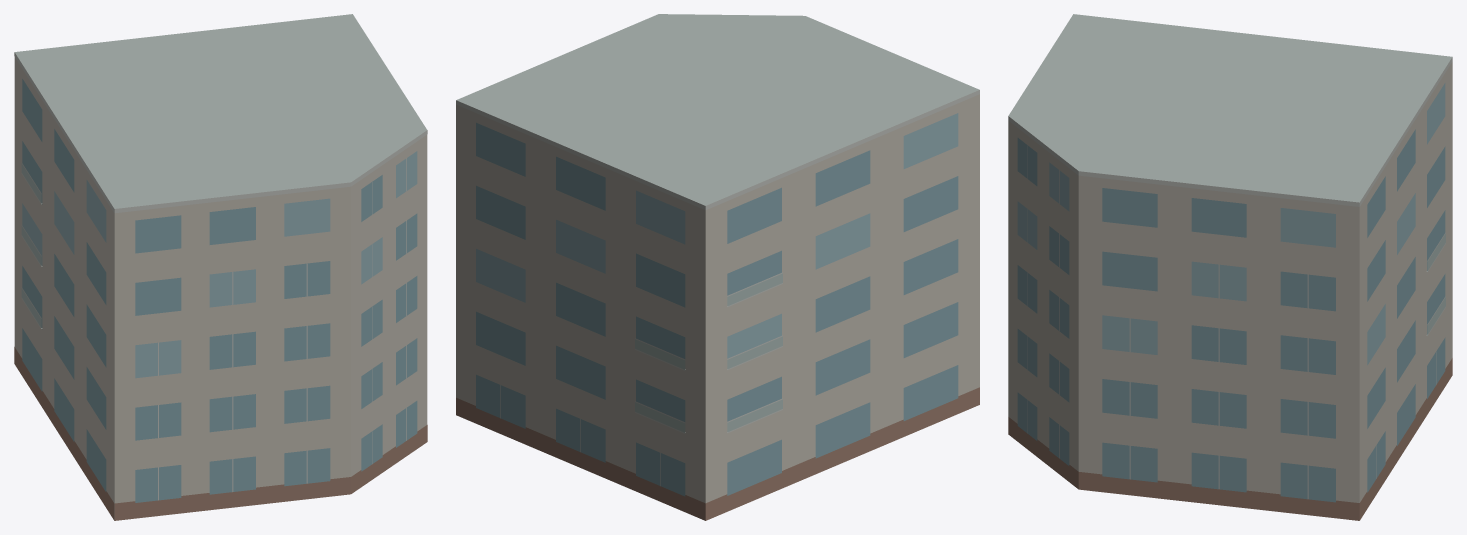
Rendered from survey-upis-32912090.glb.
The picture shows the model from 3 angles, left to right: view 1: azimuth 30°, elevation 25°; view 2: azimuth 150°, elevation 25°; view 3: azimuth 270°, elevation 25°; orthographic projection. The views are drawn at different scales.
Visible parts, largest first — view 1: survey-upis-32912090.tmp; view 2: survey-upis-32912090.tmp; view 3: survey-upis-32912090.tmp.
Part boxes in pixels (<box>): survey-upis-32912090.tmp: <box>14,14,427,520</box>; survey-upis-32912090.tmp: <box>456,14,979,520</box>; survey-upis-32912090.tmp: <box>1008,14,1452,520</box>.
Size of the model in its own units: 22.36 by 17.6 by 22.27.
